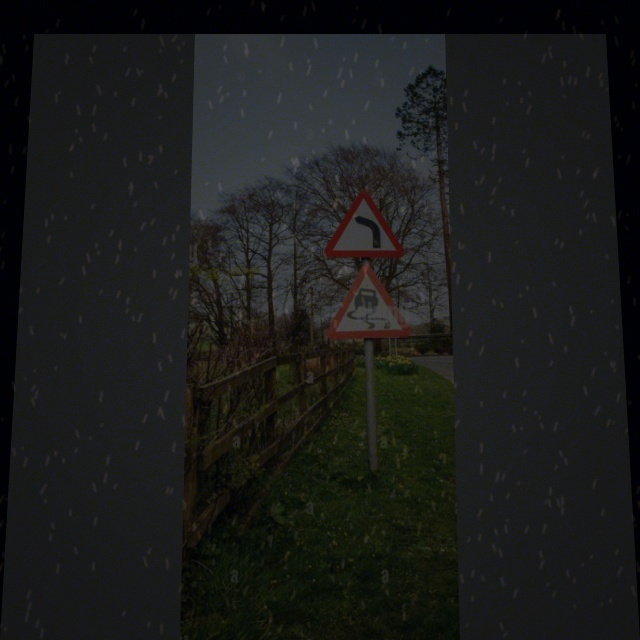Slippery_Road: (328, 263, 410, 342)
